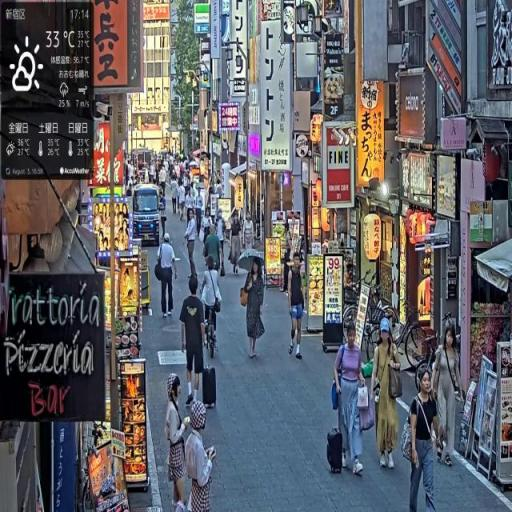person: (332, 323, 369, 480), (406, 369, 443, 512), (371, 317, 404, 472), (431, 325, 465, 468), (164, 372, 191, 512), (181, 275, 208, 408), (241, 258, 267, 361), (201, 255, 224, 356), (288, 253, 308, 363), (156, 231, 179, 318), (185, 209, 199, 286), (204, 224, 224, 276), (229, 207, 243, 280), (216, 212, 229, 277), (173, 177, 180, 216)
